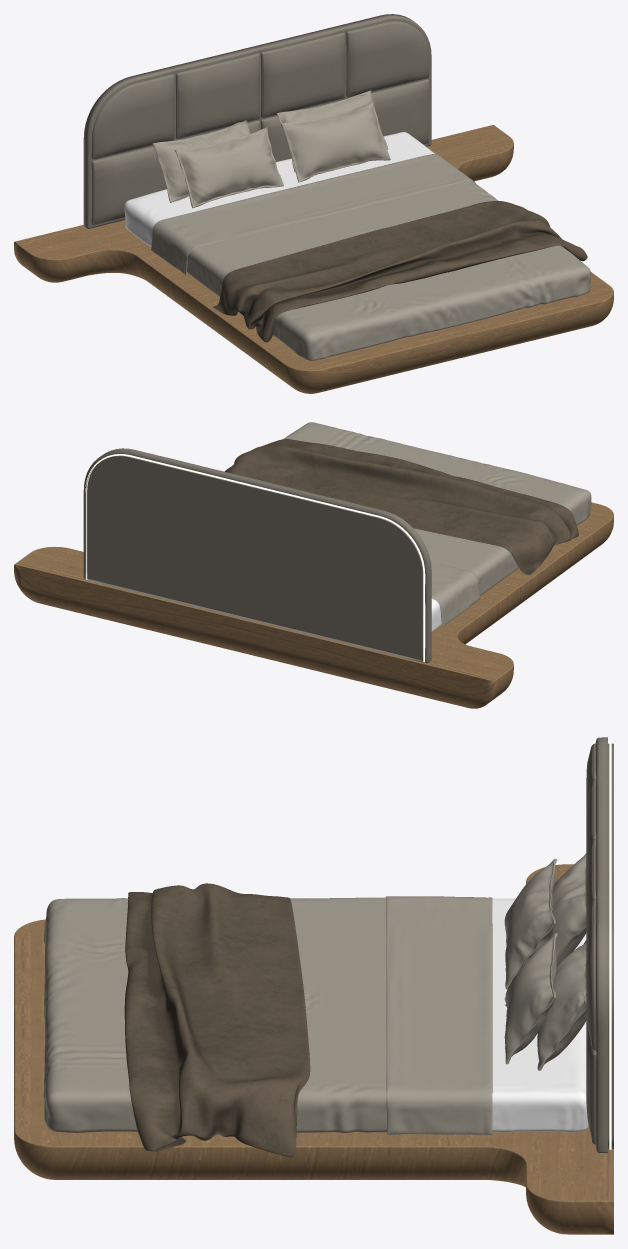
Rendered from bed2.glb.
The picture shows the model from 3 angles, top to bottom: view 1: azimuth 30°, elevation 25°; view 2: azimuth 150°, elevation 25°; view 3: azimuth 270°, elevation 25°; orthographic projection. The views are drawn at different scales.
Visible parts, largest first — view 1: blanket-001, headboard, main, blanket-002, pillow-003, pillow-004, pillow-001, pillow-002; view 2: headboard, main, blanket-002, blanket-001; view 3: blanket-001, blanket-002, main, headboard, pillow-003, pillow-004, pillow-002, pillow-001.
Part boxes in pixels (x1=…): blanket-001: x1=124, y1=132, x2=590, y2=360; headboard: x1=83, y1=14, x2=431, y2=228; main: x1=14, y1=125, x2=613, y2=393; blanket-002: x1=213, y1=201, x2=587, y2=342; pillow-003: x1=281, y1=101, x2=390, y2=182; pillow-004: x1=174, y1=127, x2=283, y2=208; pillow-001: x1=152, y1=120, x2=249, y2=202; pillow-002: x1=276, y1=90, x2=388, y2=172; headboard: x1=83, y1=448, x2=431, y2=662; main: x1=14, y1=502, x2=613, y2=708; blanket-002: x1=225, y1=439, x2=578, y2=574; blanket-001: x1=283, y1=422, x2=591, y2=631; blanket-001: x1=43, y1=896, x2=588, y2=1134; blanket-002: x1=124, y1=883, x2=310, y2=1157; main: x1=14, y1=864, x2=613, y2=1234; headboard: x1=586, y1=737, x2=613, y2=1152; pillow-003: x1=504, y1=933, x2=557, y2=1064; pillow-004: x1=504, y1=858, x2=557, y2=989; pillow-002: x1=537, y1=940, x2=586, y2=1070; pillow-001: x1=551, y1=853, x2=586, y2=966.
Bounding box in the file's own units: 2.66 × 0.9097 × 2.
2 materials, 2 textured.
